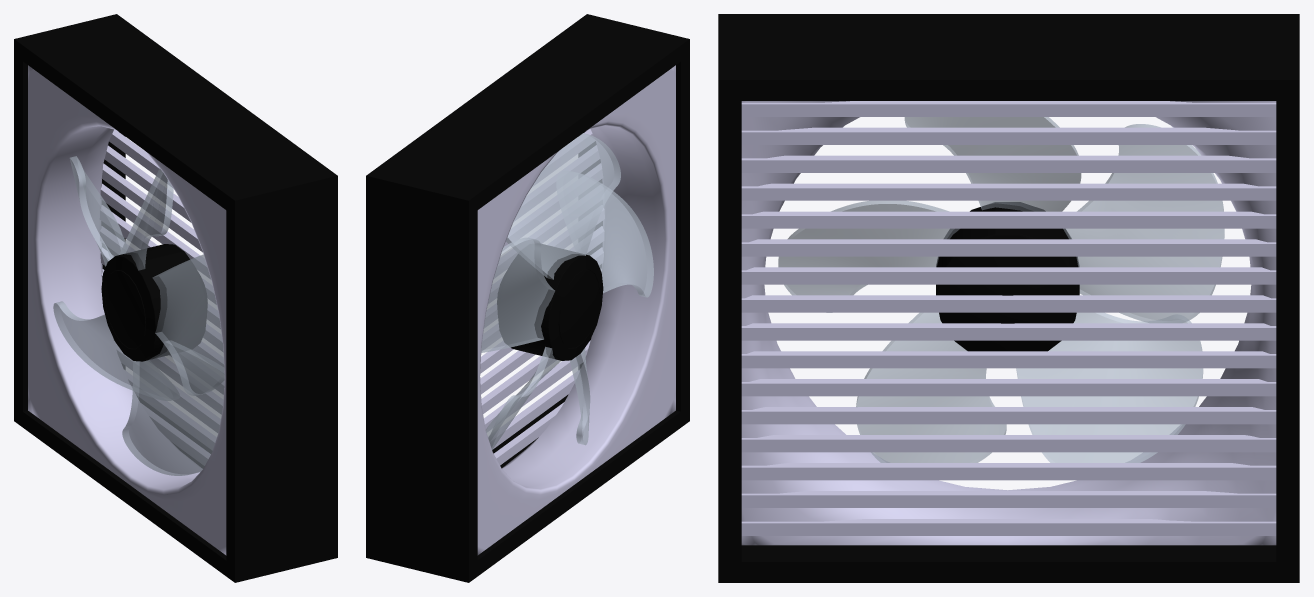
Rendered from fan.obj.
The picture shows the model from 3 angles, left to right: view 1: azimuth 30°, elevation 25°; view 2: azimuth 150°, elevation 25°; view 3: azimuth 270°, elevation 25°; orthographic projection. The views are drawn at different scales.
Visible parts, largest first — view 1: Box09, Cylinder05, Line1506_Line1504, Cylinder04, Line1506_Line1505, Line1506_Line1503, Line1506, Line1506_Line01, Line1522_Line1516, Line1522_Line1515, Line1522_Line1517, Line1522_Line1507 (+6 smaller); view 2: Box09, Cylinder05, Cylinder04, Line1506, Line1506_Line1505, Line1506_Line01, Line1506_Line1503, Line1522_Line1507, Line1522_Line1508, Line1506_Line1504, Line1522_Line1509, Line1522_Line1517 (+9 smaller); view 3: Box09, Cylinder05, Line1506_Line01, Line1522_Line1513, Line1522_Line1514, Line1522_Line1512, Line1522_Line1515, Line1522_Line1511, Line1522_Line1516, Line1522_Line1510, Line1522_Line1517, Line1522_Line1509 (+12 smaller).
Boxes of the visible parts, x1,y1,x2,y2 form: Box09: (14,14,337,582); Cylinder05: (28,65,226,555); Line1506_Line1504: (122,341,224,475); Cylinder04: (101,244,207,361); Line1506_Line1505: (152,254,224,395); Line1506_Line1503: (53,301,179,400); Line1506: (119,168,173,270); Line1506_Line01: (69,156,127,266); Line1522_Line1516: (101,163,202,252); Line1522_Line1515: (100,183,210,278); Line1522_Line1517: (104,145,191,222); Line1522_Line1507: (124,370,216,449); Box09: (366,14,689,582); Cylinder05: (477,65,675,555); Cylinder04: (497,244,603,360); Line1506: (506,133,620,279); Line1506_Line1505: (557,171,653,297); Line1506_Line01: (481,237,554,352); Line1506_Line1503: (486,347,560,449); Line1522_Line1507: (488,370,579,449); Line1522_Line1508: (484,340,590,431); Line1506_Line1504: (570,347,590,445); Line1522_Line1509: (481,355,556,413); Line1522_Line1517: (514,145,599,220); Box09: (718,14,1299,582); Cylinder05: (741,101,1276,545); Line1506_Line01: (1063,124,1224,323); Line1522_Line1513: (741,323,1276,340); Line1522_Line1514: (741,295,1276,312); Line1522_Line1512: (741,351,1276,368); Line1522_Line1515: (741,267,1276,284); Line1522_Line1511: (741,379,1276,396); Line1522_Line1516: (741,239,1276,256); Line1522_Line1510: (741,407,1276,424); Line1522_Line1517: (741,211,1276,228); Line1522_Line1509: (741,435,1276,452).
Bounding box in the file's own units: 2.78 × 9.54 × 10.
